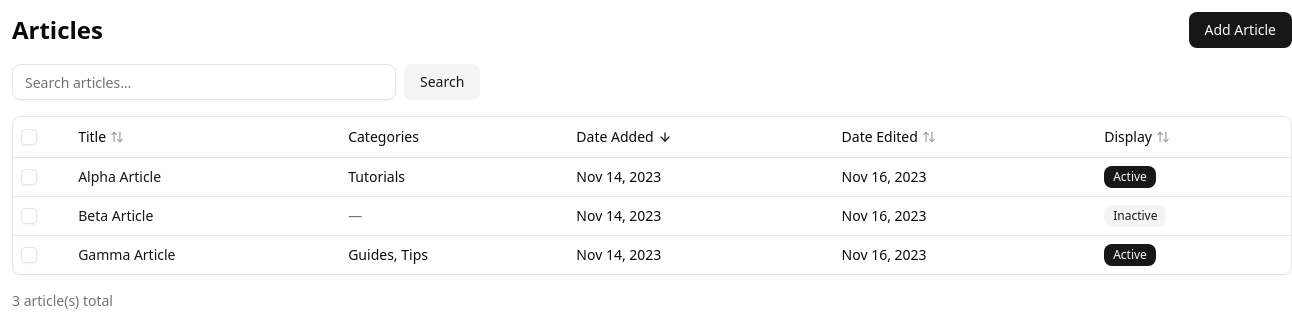
Test: AdminArticlesPage › Empty state › shows search-specific empty message when search returns no results
This screenshot has width=1292, height=326.
Expected: the link "Alpha Article" is shown, [78,166,161,186]
Type "zzznomatch" into the search field labelled "Search articles…" at (204, 82), box [12,64,396,100]
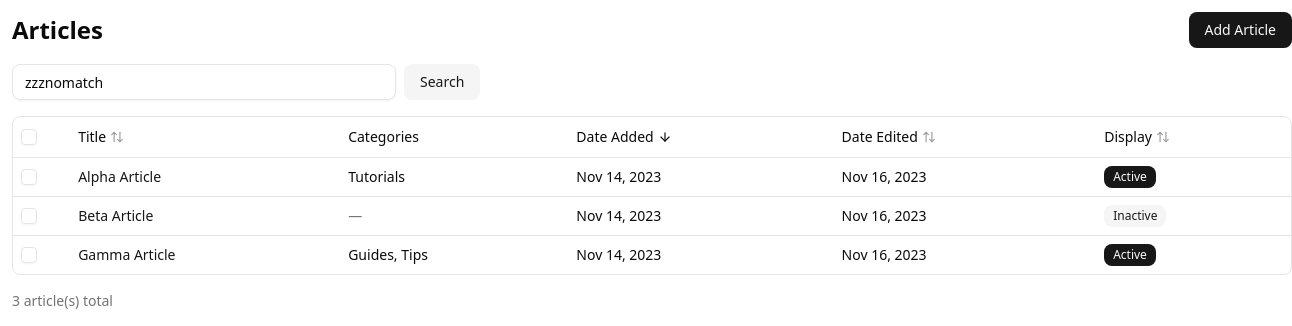
Submit the form named "search articles", box [12,64,480,100]
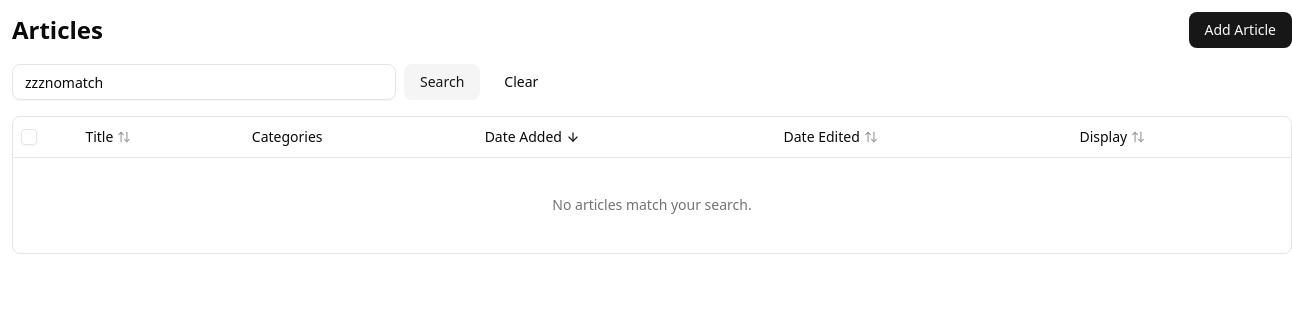
Expected: the text "No articles match your search." is shown, [13,157,1291,253]
